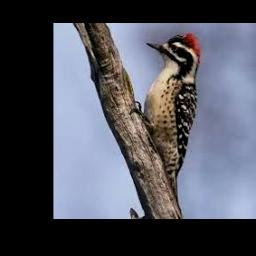Woodpecker: (130, 33, 203, 200)
